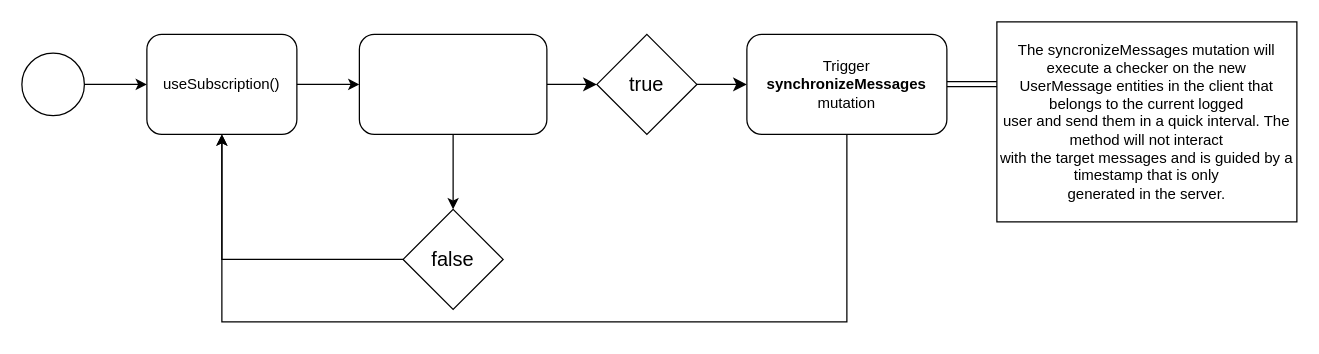
Image size: 1319x354. Some labels were removed from this diagram. The centre of each missing label's shape, as x and y in pixels:
Client: (52,84)
hasIncomingMessages event: (452,83)
